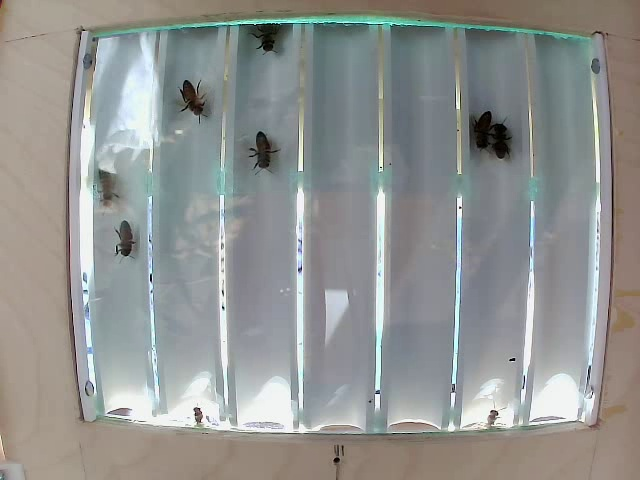bee: (170, 79, 215, 118), (246, 123, 279, 170), (109, 221, 136, 258), (94, 167, 122, 200), (247, 29, 288, 51), (477, 97, 489, 146), (500, 117, 512, 164)
